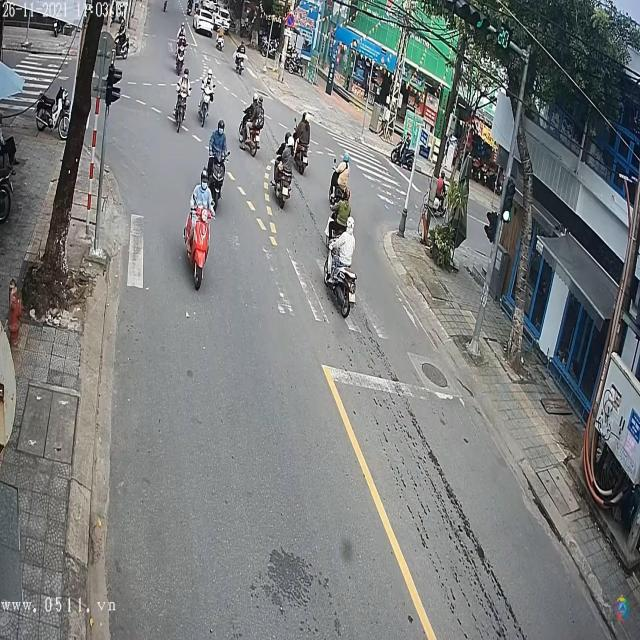car: (192, 7, 214, 40)
motorcycle: (184, 203, 215, 294), (323, 238, 358, 318), (272, 155, 294, 211), (239, 106, 260, 157), (175, 86, 192, 133), (199, 86, 215, 129), (174, 43, 186, 76), (235, 53, 245, 79)
